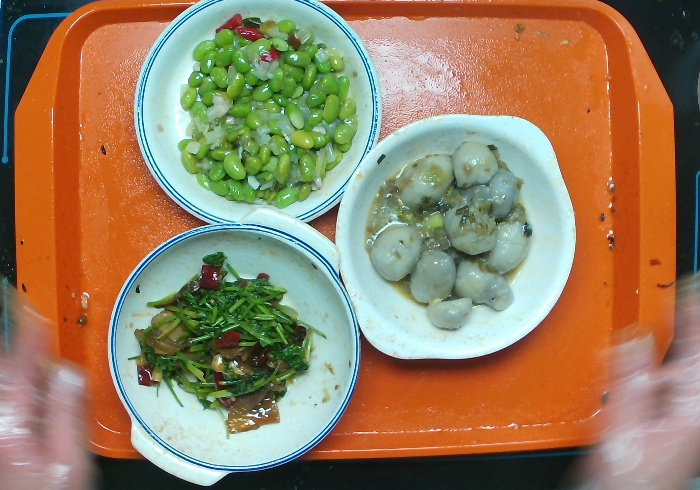HZYJPL-Dai_Er_Bai_Yuan_Wan: (324, 108, 582, 372)
HZYJPL-Lan_Bian_Dai_Er_Wan: (102, 200, 369, 485)
HZYJPL-Lan_Bian_Yuan_Die: (131, 1, 387, 237)
